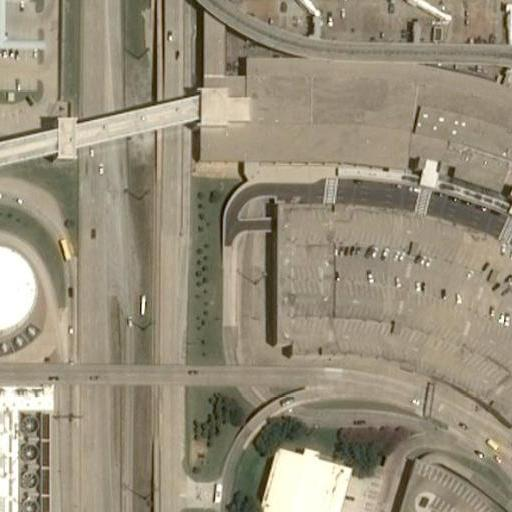Aircraft: (337, 0, 441, 6), (247, 0, 325, 6)
